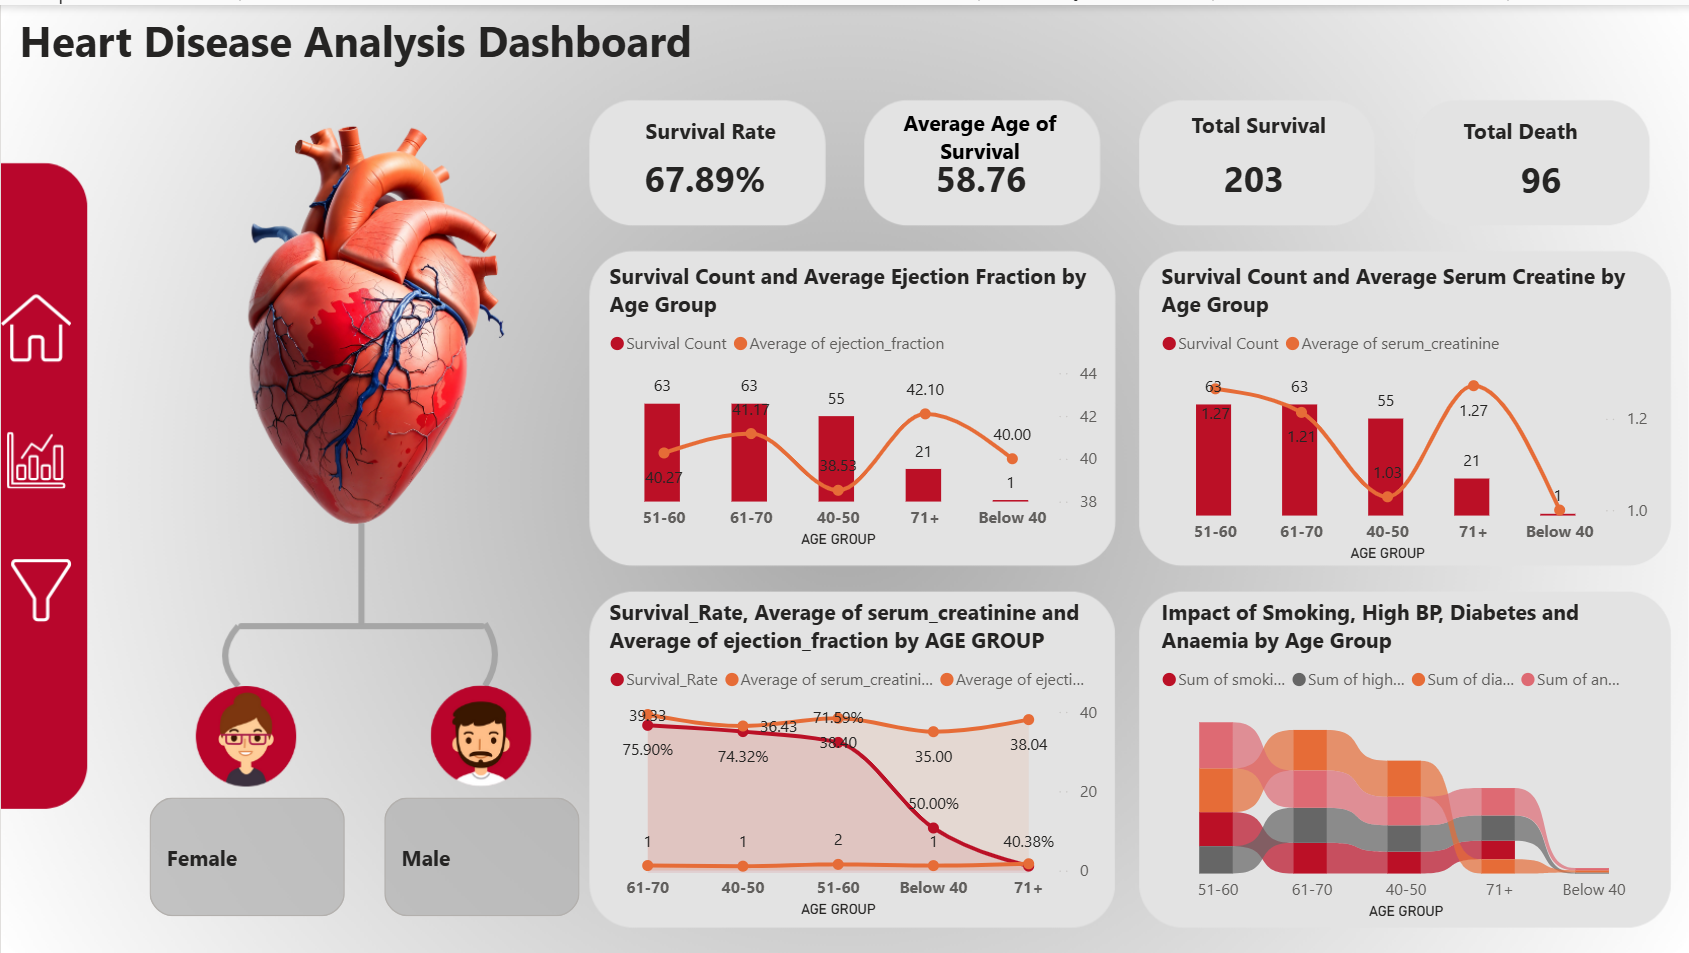

The page's visual inventory and layout, read from the dashboard file:
{"tool":"powerbi","page":{"name":"Page 1","canvas":[1280,720],"ordinal":0},"visuals":[{"type":"textbox","box":[9.1,0,582.4,66.7],"z":0},{"type":"card","fields":{"Values":["heart_Disease_clinical_records_.Survival_Rate"]},"box":[456.5,101.6,154.7,62.2],"z":1000},{"type":"card","fields":{"Values":["heart_Disease_clinical_records_.Average_Age_of_Survival"]},"box":[665.8,101.6,154.7,62.2],"z":2000},{"type":"card","fields":{"Values":["heart_Disease_clinical_records_.Total_Surviour"]},"box":[875.1,101.6,150.1,62.2],"z":3000},{"type":"card","fields":{"Values":["heart_Disease_clinical_records_.Total_Death"]},"box":[1090.4,101.6,154.7,63.7],"z":4000},{"type":"textbox","box":[483.8,78.9,127.4,37.9],"z":5000},{"type":"lineClusteredColumnComboChart","title":"Survival Count and Average Serum Creatine by Age Group","fields":{"Category":["heart_Disease_clinical_records_.AGE GROUP"],"Y":["CountNonNull(heart_Disease_clinical_records_.DEATH_EVENT)"],"Y2":["Avg(heart_Disease_clinical_records_.serum_creatinine)"]},"box":[875.1,194.1,380.7,232],"z":6000},{"type":"lineClusteredColumnComboChart","title":"Survival Count and Average Ejection Fraction by Age Group","fields":{"Category":["heart_Disease_clinical_records_.AGE GROUP"],"Y":["CountNonNull(heart_Disease_clinical_records_.DEATH_EVENT)"],"Y2":["Avg(heart_Disease_clinical_records_.ejection_fraction)"]},"box":[456.5,194.1,380.7,221.4],"z":7000},{"type":"lineChart","fields":{"Category":["heart_Disease_clinical_records_.AGE GROUP"],"Y":["heart_Disease_clinical_records_.Survival_Rate"],"Y2":["Avg(heart_Disease_clinical_records_.serum_creatinine)","Avg(heart_Disease_clinical_records_.ejection_fraction)"]},"box":[456.5,448.9,380.7,247.2],"z":8000},{"type":"ribbonChart","title":"Impact of Smoking, High BP, Diabetes and Anaemia by Age Group","fields":{"Category":["heart_Disease_clinical_records_.AGE GROUP"],"Y":["Sum(heart_Disease_clinical_records_.smoking)","Sum(heart_Disease_clinical_records_.high_blood_pressure)","Sum(heart_Disease_clinical_records_.diabetes)","Sum(heart_Disease_clinical_records_.anaemia)"]},"box":[875.1,448.9,380.7,248.7],"z":9000},{"type":"advancedSlicerVisual","fields":{"Values":["heart_Disease_clinical_records_.Gender"]},"box":[107.7,596,336.7,100.1],"z":10000},{"type":"textbox","box":[647.6,72.8,189.6,59.1],"z":11000},{"type":"textbox","box":[897.8,74.3,138,50],"z":12000},{"type":"textbox","box":[1104.1,78.9,127.4,37.9],"z":13000}]}

Visuals, with their boxes in screenshot pixels (x1, y1, x2, y2), scaled from the page's 1280x720 canvas onto the 1689x953 screenshot:
textbox: 12,0,781,88
card - heart_Disease_clinical_records_.Survival_Rate: 602,134,806,217
card - heart_Disease_clinical_records_.Average_Age_of_Survival: 879,134,1083,217
card - heart_Disease_clinical_records_.Total_Surviour: 1155,134,1353,217
card - heart_Disease_clinical_records_.Total_Death: 1439,134,1643,219
textbox: 638,104,806,155
"Survival Count and Average Serum Creatine by Age Group" lineClusteredColumnComboChart: 1155,257,1657,564
"Survival Count and Average Ejection Fraction by Age Group" lineClusteredColumnComboChart: 602,257,1105,550
lineChart - heart_Disease_clinical_records_.AGE GROUP x heart_Disease_clinical_records_.Survival_Rate: 602,594,1105,921
"Impact of Smoking, High BP, Diabetes and Anaemia by Age Group" ribbonChart: 1155,594,1657,923
advancedSlicerVisual - heart_Disease_clinical_records_.Gender: 142,789,586,921
textbox: 855,96,1105,175
textbox: 1185,98,1367,165
textbox: 1457,104,1625,155
